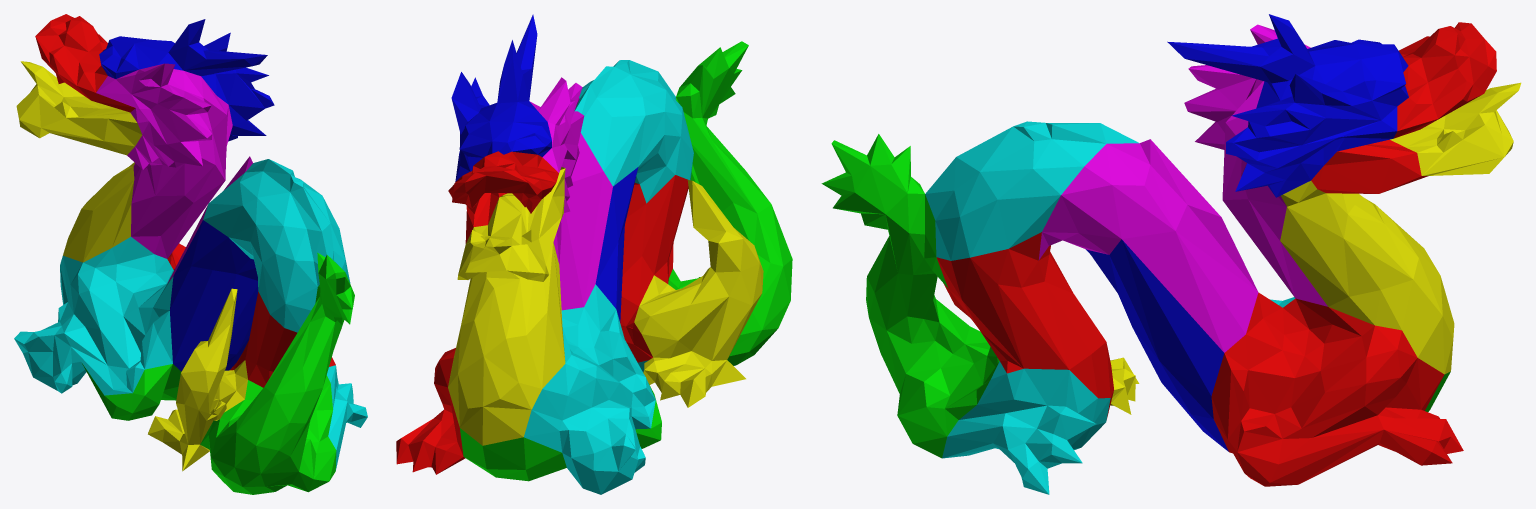
Rendered from Dragon_8K_2.fbx.
The picture shows the model from 3 angles, left to right: view 1: azimuth 30°, elevation 25°; view 2: azimuth 150°, elevation 25°; view 3: azimuth 270°, elevation 25°; orthographic projection. The views are drawn at different scales.
Bounding box in the file's own units: 0.4469 × 0.7072 × 0.9987.
